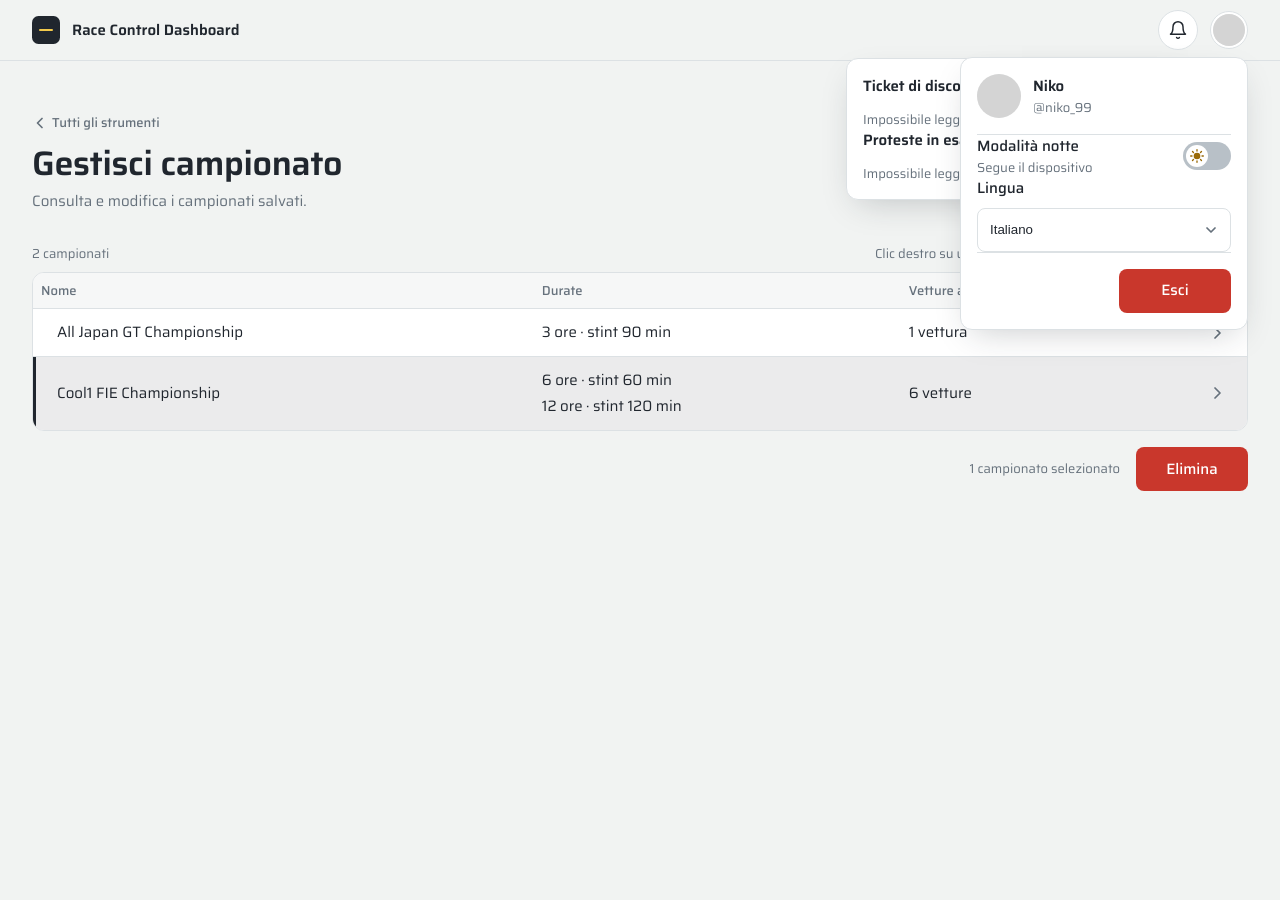
Test: Gestisci campionato › spiega perché non si elimina un campionato con gare
What coordinates should you click on to do the following:
click the button "Elimina"
I would click on:
 (1192, 469)
Its box is [1136, 447, 1248, 491].
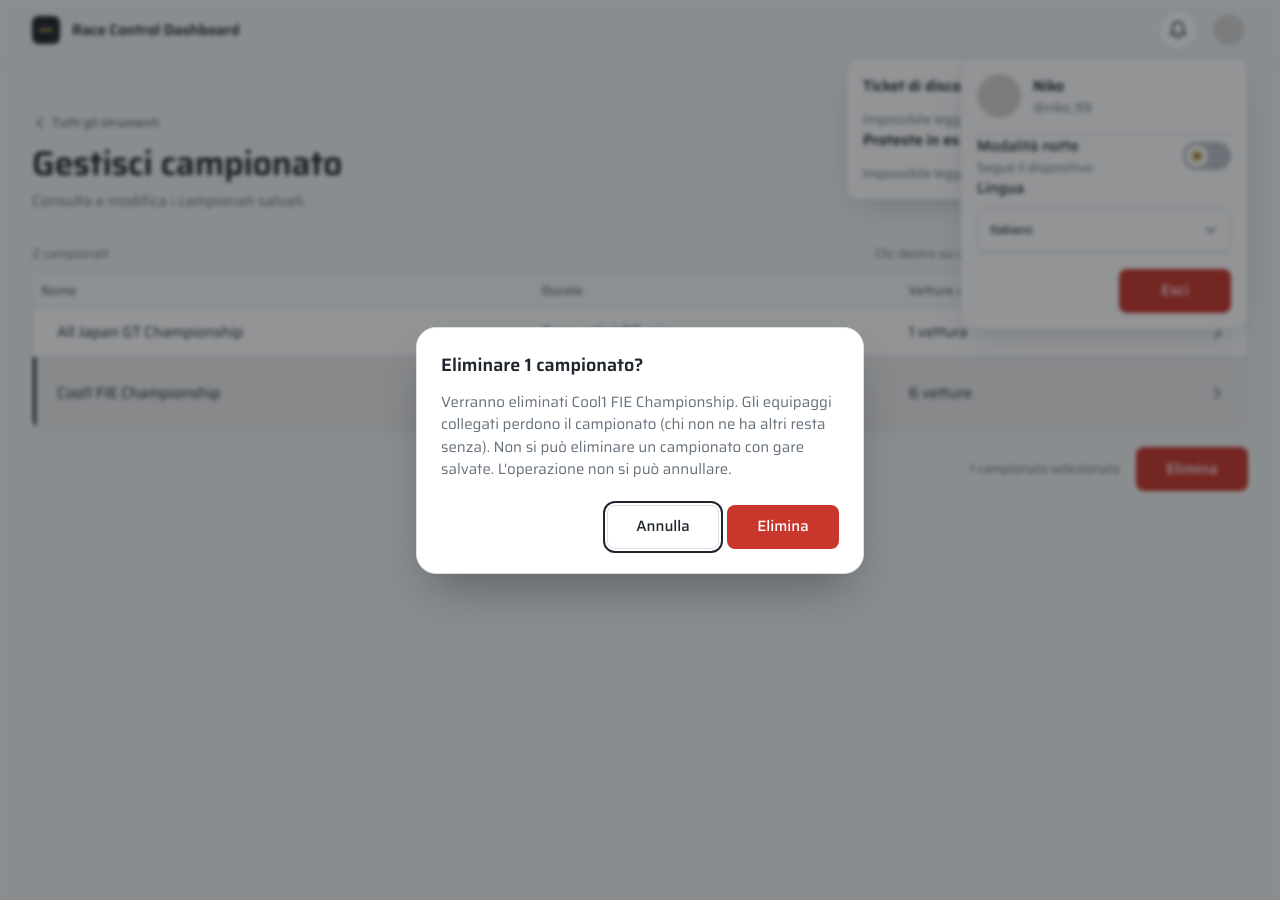
What coordinates should you click on to do the following:
click the button "Elimina" below "Eliminare 1 campionato?"
I would click on:
 (783, 526)
Its box is [727, 504, 839, 548].
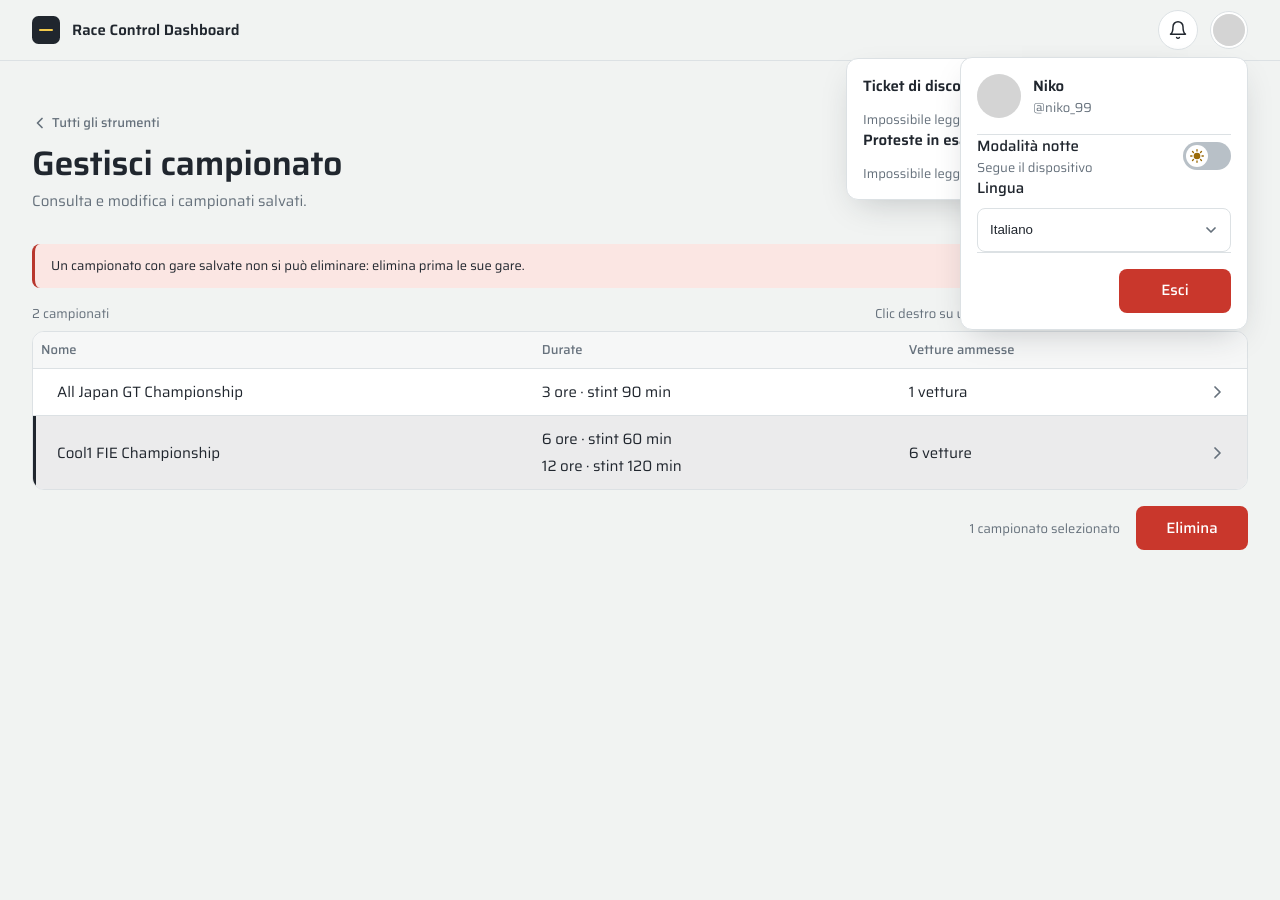
Result: the text "Un campionato con gare salvate non si può eliminare" is shown at [51, 255, 525, 276]
